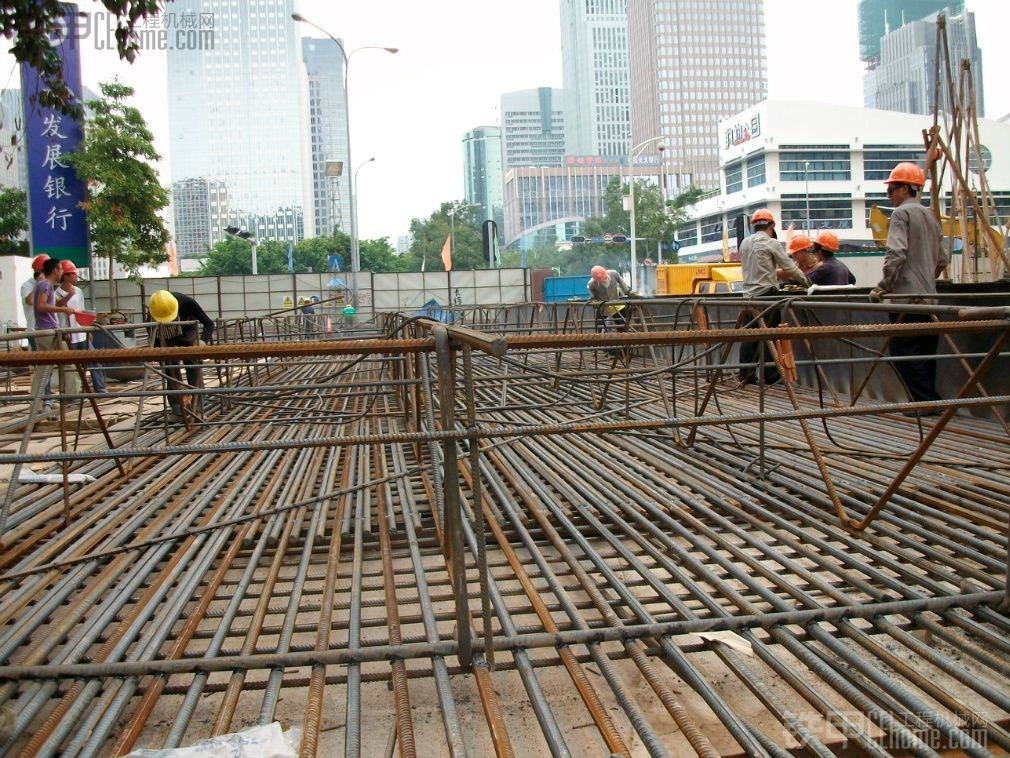none: (42, 256, 62, 282)
red: (886, 161, 923, 204), (812, 228, 839, 263), (750, 208, 775, 237), (788, 233, 809, 262), (59, 258, 78, 286), (588, 264, 608, 287), (31, 253, 48, 279)
yellow: (146, 288, 179, 328)
